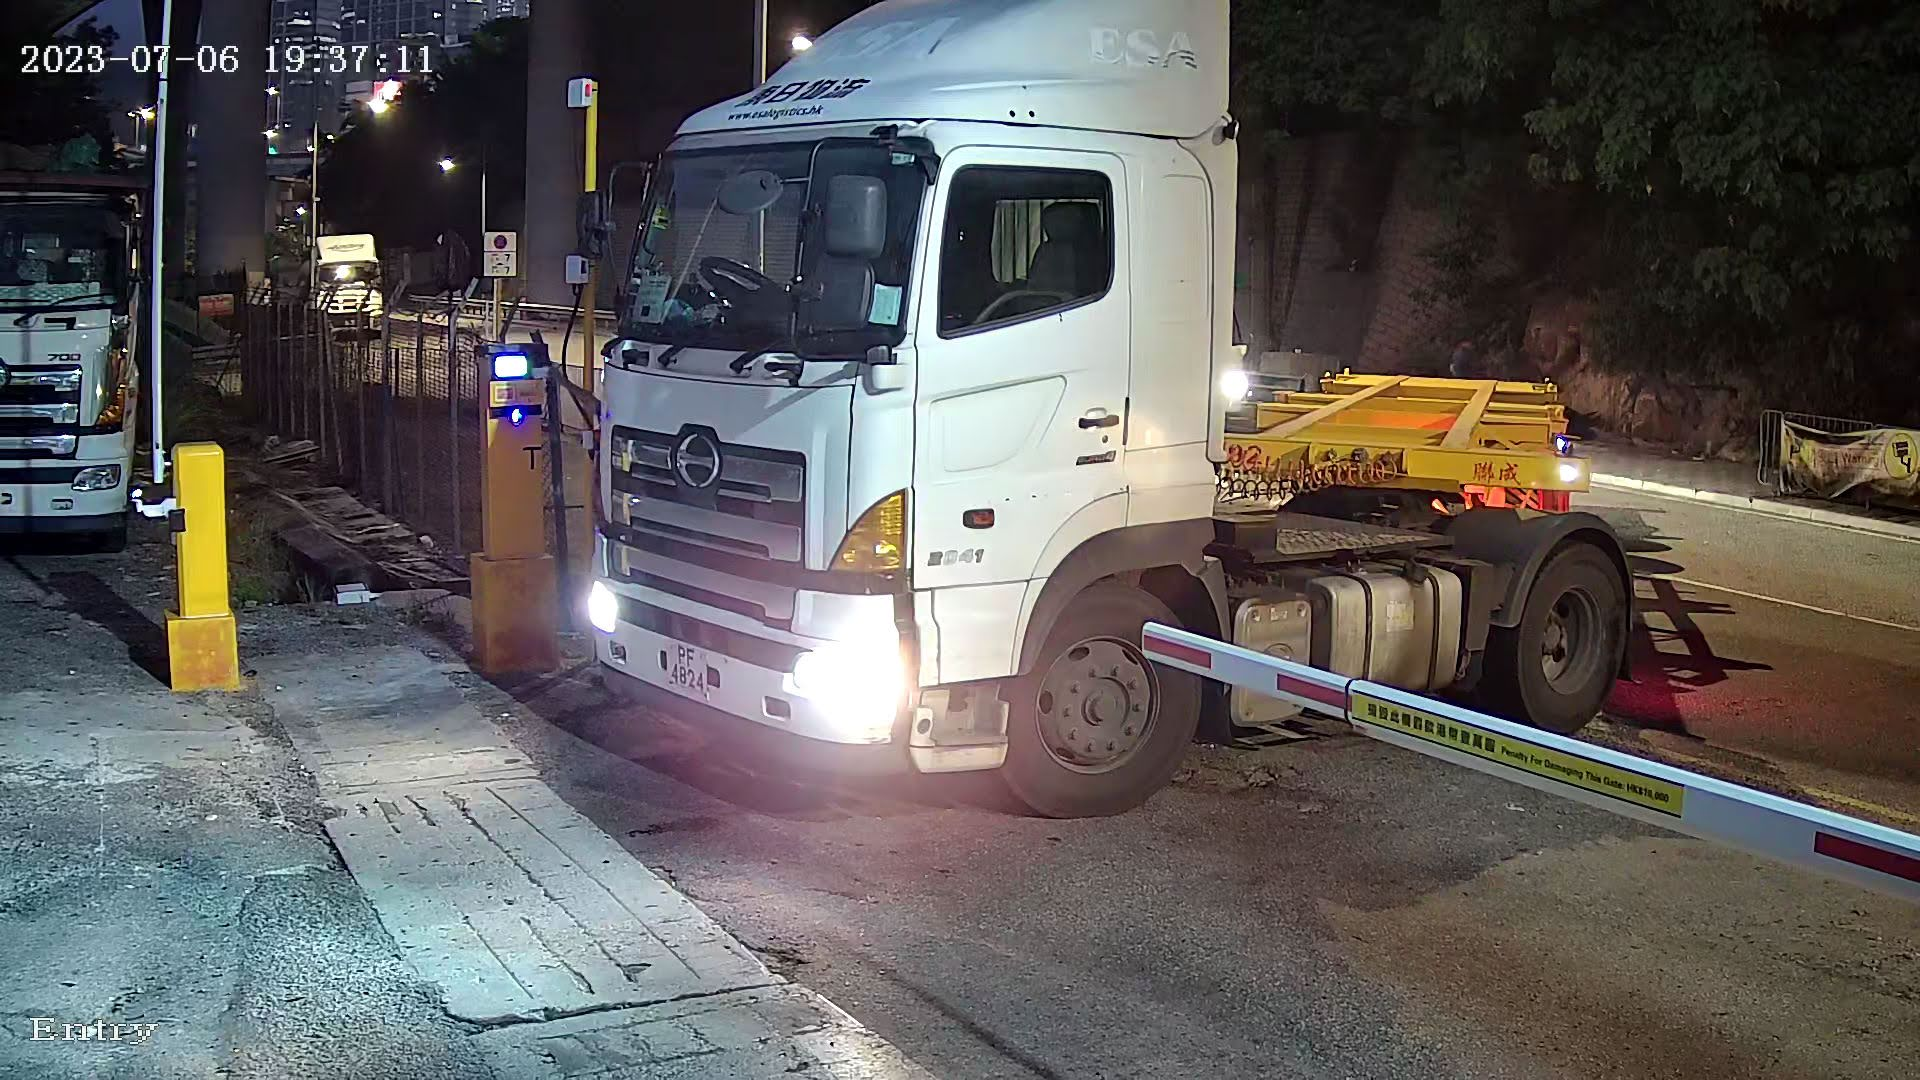truck: (542, 1, 1693, 818)
